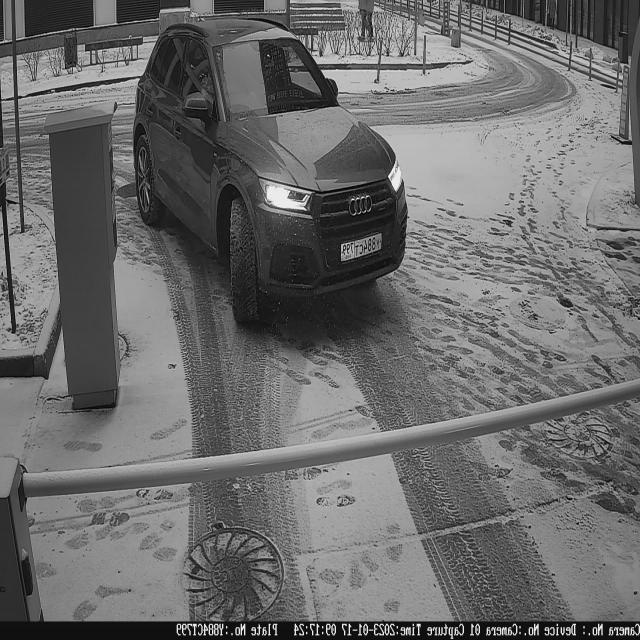car-plate-numbers: (338, 227, 386, 268)
